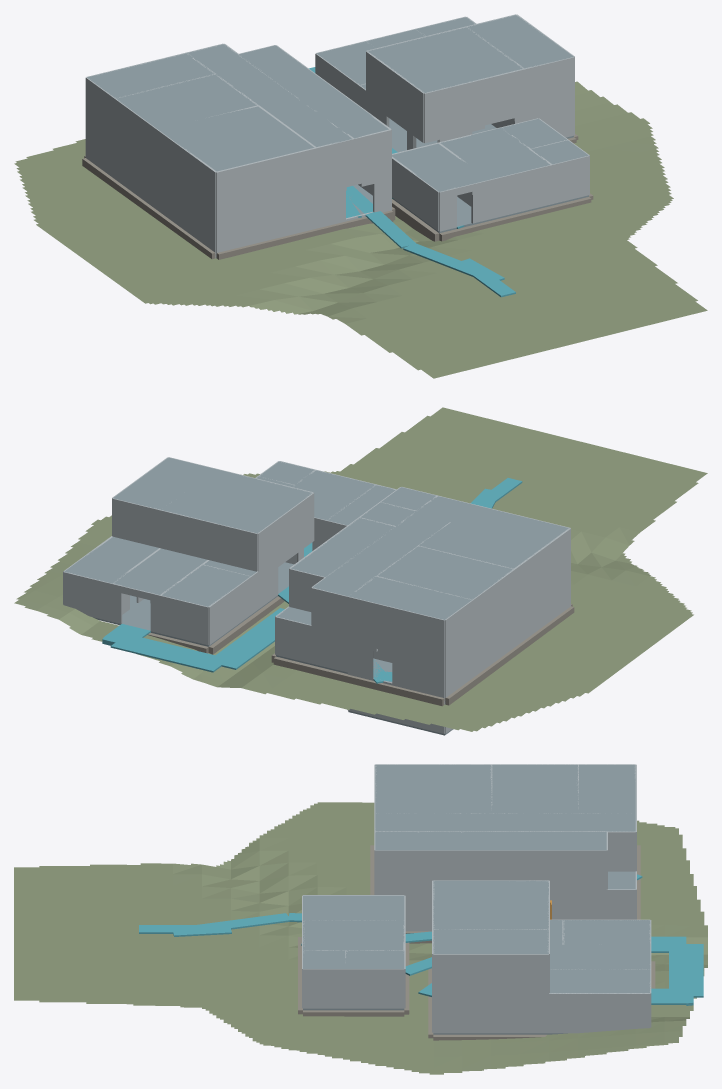
File: access-routes.glb
The picture shows the model from 3 angles, top to bottom: view 1: azimuth 30°, elevation 25°; view 2: azimuth 150°, elevation 25°; view 3: azimuth 270°, elevation 25°; orthographic projection. The views are drawn at different scales.
Parts seen in each view (by area): view 1: Saved editor circulation terrain FARMHOUSE, Ceiling cap hayloft, Ceiling cap parents, Ceiling cap upper-hall, Ceiling cap children, Wall parents S, Wall hayloft S, Wall parlour S, Ceiling cap repair, Ceiling cap linen, Ceiling cap loft-landing, Ceiling cap upper-stair (+31 smaller); view 2: Saved editor circulation terrain FARMHOUSE, Ceiling cap hayloft, Ceiling cap parents, Ceiling cap upper-hall, Ceiling cap children, Wall hayloft N, Wall linen N, Wall cleaner N, Ceiling cap loft-landing, Ceiling cap linen, Ceiling cap upper-stair, Wall hayloft W (+30 smaller); view 3: Saved editor circulation terrain FARMHOUSE, Ceiling cap parents, Ceiling cap hayloft, Wall upper-stair E, Ceiling cap upper-hall, Wall loft-stair E, Wall loft-landing E, Ceiling cap children, Wall equipment E, Ceiling cap repair, Ceiling cap linen, Ceiling cap loft-landing (+23 smaller).
Part boxes in pixels (x1=…): Saved editor circulation terrain FARMHOUSE: x1=14, y1=81, x2=707, y2=378; Ceiling cap hayloft: x1=367, y1=27, x2=522, y2=92; Ceiling cap parents: x1=159, y1=106, x2=314, y2=171; Ceiling cap upper-hall: x1=187, y1=44, x2=351, y2=146; Ceiling cap children: x1=116, y1=74, x2=256, y2=129; Wall parents S: x1=216, y1=147, x2=316, y2=211; Wall hayloft S: x1=424, y1=68, x2=524, y2=132; Wall parlour S: x1=216, y1=187, x2=316, y2=250; Ceiling cap repair: x1=440, y1=128, x2=549, y2=179; Ceiling cap linen: x1=87, y1=53, x2=214, y2=98; Ceiling cap loft-landing: x1=467, y1=15, x2=573, y2=68; Ceiling cap upper-stair: x1=239, y1=45, x2=346, y2=106; Saved editor circulation terrain FARMHOUSE: x1=14, y1=407, x2=707, y2=731; Ceiling cap hayloft: x1=161, y1=469, x2=312, y2=533; Ceiling cap parents: x1=419, y1=505, x2=569, y2=568; Ceiling cap upper-hall: x1=313, y1=496, x2=473, y2=596; Ceiling cap children: x1=376, y1=546, x2=513, y2=599; Wall hayloft N: x1=160, y1=510, x2=257, y2=571; Wall linen N: x1=347, y1=596, x2=444, y2=657; Wall cleaner N: x1=275, y1=616, x2=347, y2=672; Ceiling cap loft-landing: x1=113, y1=457, x2=216, y2=509; Ceiling cap linen: x1=348, y1=576, x2=471, y2=619; Ceiling cap upper-stair: x1=290, y1=517, x2=395, y2=577; Wall hayloft W: x1=257, y1=493, x2=314, y2=571; Saved editor circulation terrain FARMHOUSE: x1=14, y1=802, x2=707, y2=1074; Ceiling cap parents: x1=375, y1=764, x2=490, y2=813; Ceiling cap hayloft: x1=433, y1=880, x2=548, y2=929; Wall upper-stair E: x1=462, y1=850, x2=606, y2=889; Ceiling cap upper-hall: x1=375, y1=813, x2=635, y2=831; Wall loft-stair E: x1=433, y1=994, x2=548, y2=1033; Wall loft-landing E: x1=433, y1=954, x2=548, y2=993; Ceiling cap children: x1=491, y1=764, x2=577, y2=813; Wall equipment E: x1=549, y1=993, x2=650, y2=1033; Ceiling cap repair: x1=303, y1=920, x2=404, y2=950; Ceiling cap linen: x1=578, y1=764, x2=635, y2=813; Ceiling cap loft-landing: x1=433, y1=929, x2=548, y2=953.
Bounding box in the file's own units: 45 × 9.16 × 48.
